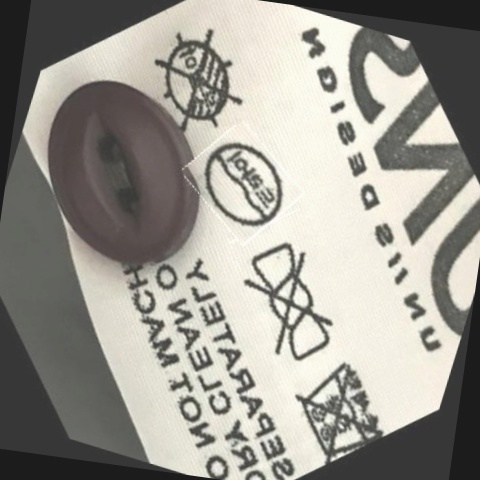DN_dry: (139, 21, 257, 141)
DN_wring: (222, 238, 355, 371)
dry_clean: (189, 129, 296, 239)
hand_wash: (283, 346, 396, 467)
